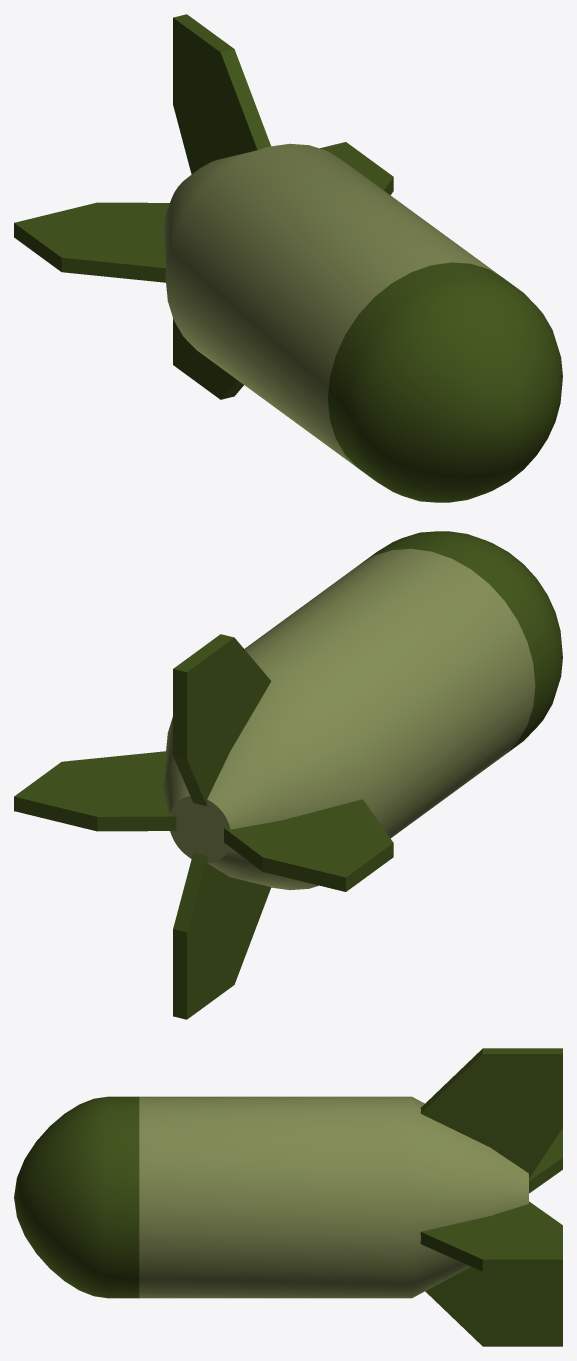
The model's file is BazukarBullet.fbx.
3 renders of one model, top to bottom at view 1: azimuth 30°, elevation 25°; view 2: azimuth 150°, elevation 25°; view 3: azimuth 270°, elevation 25°, orthographic. The views are drawn at different scales.
Parts seen in each view (by area): view 1: Sphere, Cube.002; view 2: Sphere, Cube.002; view 3: Sphere, Cube.002.
Boxes of the visible parts, x1=… form: Sphere: x1=163, y1=143, x2=562, y2=502; Cube.002: x1=14, y1=14, x2=393, y2=399; Sphere: x1=163, y1=531, x2=562, y2=890; Cube.002: x1=14, y1=634, x2=393, y2=1019; Sphere: x1=14, y1=1096, x2=528, y2=1298; Cube.002: x1=420, y1=1048, x2=562, y2=1346.
Size of the model in its own units: 320 by 320 by 544.
